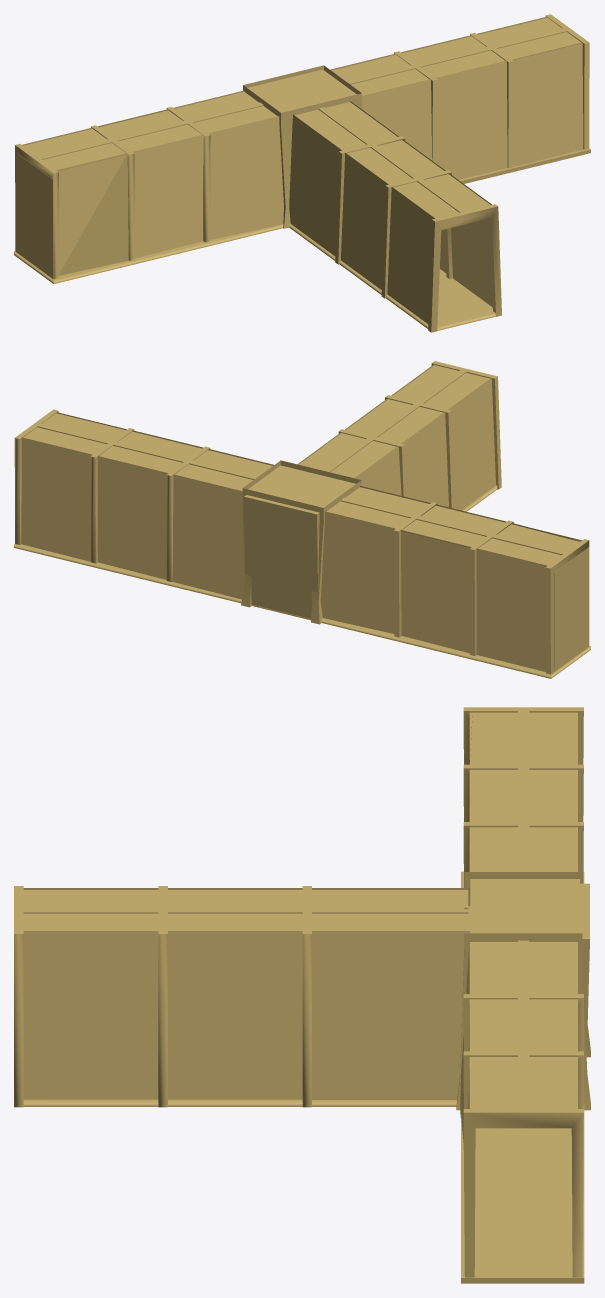
File: Gallery2.fbx
3 views of the same model, one above another, from view 1: azimuth 30°, elevation 25°; view 2: azimuth 150°, elevation 25°; view 3: azimuth 270°, elevation 25° (orthographic). The views are drawn at different scales.
Parts seen in each view (by area): view 1: Concrete_Bare, celling, Concrete_Simple, floor, Window_gan, pCube10; view 2: Concrete_Bare, celling, Concrete_Simple, pCube9, Window_gan, floor, pCube10; view 3: Concrete_Bare, celling, Concrete_Simple, floor, pCube10, pCube9.
Boxes of the visible parts, bbox=[...] form: Concrete_Bare: bbox=[22, 16, 583, 323]; celling: bbox=[22, 17, 582, 218]; Concrete_Simple: bbox=[15, 14, 589, 332]; floor: bbox=[14, 148, 590, 330]; Window_gan: bbox=[18, 154, 53, 278]; pCube10: bbox=[247, 69, 356, 112]; Concrete_Bare: bbox=[21, 364, 580, 671]; celling: bbox=[23, 364, 581, 565]; Concrete_Simple: bbox=[14, 361, 589, 674]; pCube9: bbox=[244, 495, 319, 618]; Window_gan: bbox=[554, 547, 589, 671]; floor: bbox=[14, 485, 590, 678]; pCube10: bbox=[248, 465, 355, 507]; Concrete_Bare: bbox=[23, 716, 583, 1142]; celling: bbox=[23, 711, 577, 1108]; Concrete_Simple: bbox=[14, 707, 590, 1277]; floor: bbox=[23, 871, 584, 1283]; pCube10: bbox=[470, 879, 579, 933]; pCube9: bbox=[580, 883, 589, 1057].
Bounding box in the file's own units: 709 × 145 × 425.
